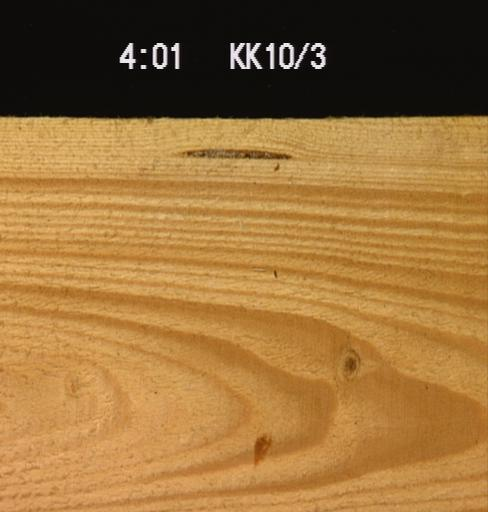sound_knot: (332, 343, 361, 383)
